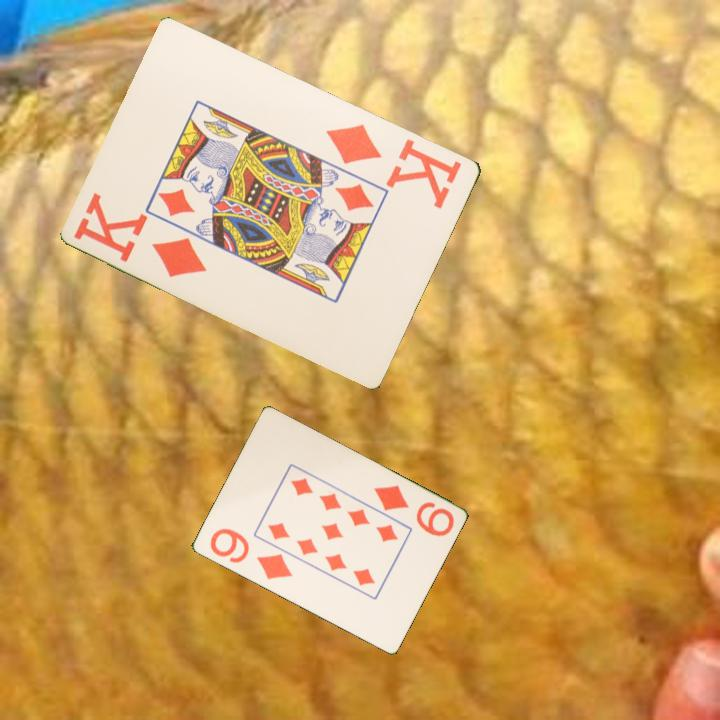9d: (206, 525, 295, 583), (370, 481, 457, 540)
Kd: (323, 119, 465, 212), (70, 190, 211, 280)
